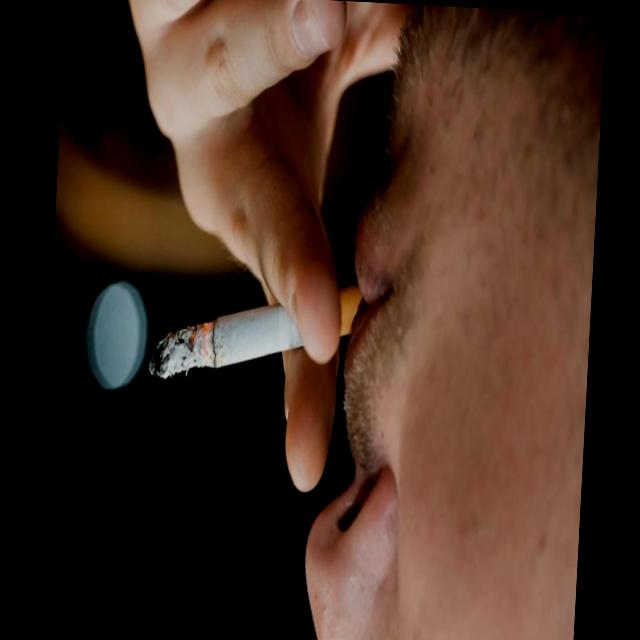cigarette: (144, 162, 418, 504)
